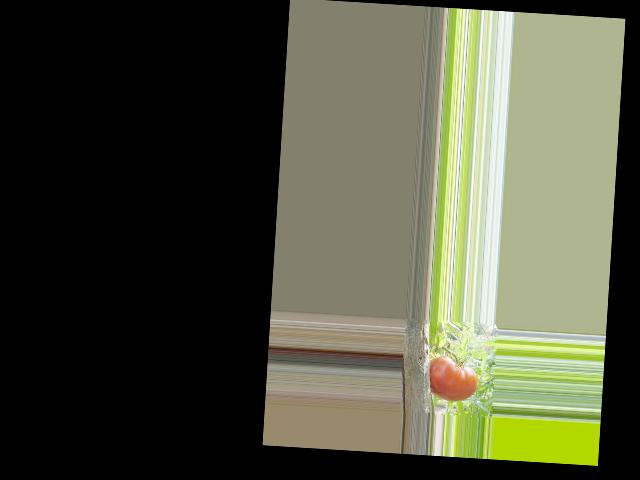tomato: (427, 355, 480, 402)
